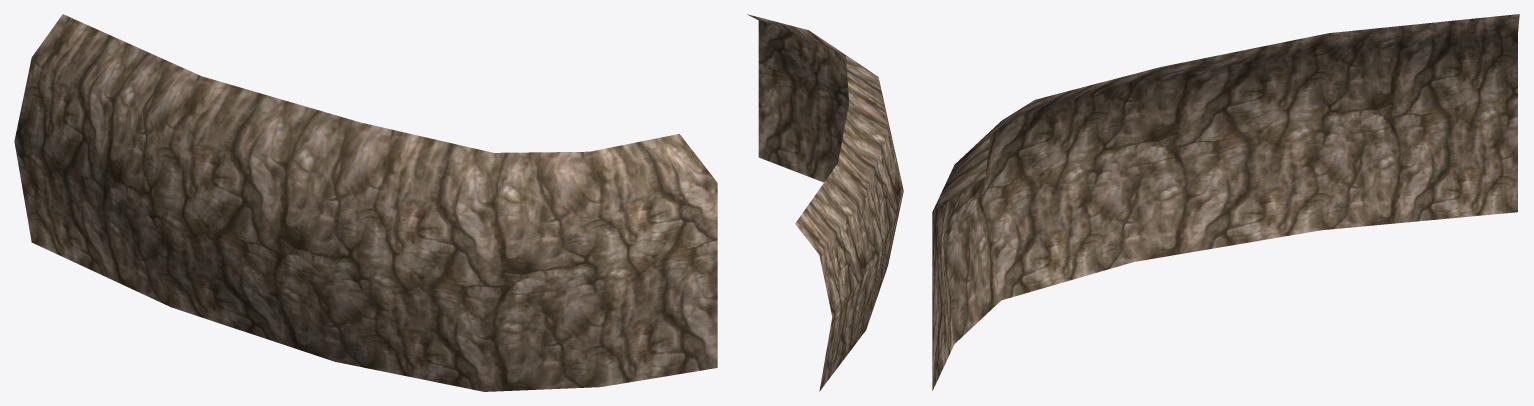
The model's file is OVERHILL_A_01_OBJECT153.fbx.
3 renders of one model, left to right at view 1: azimuth 30°, elevation 25°; view 2: azimuth 150°, elevation 25°; view 3: azimuth 270°, elevation 25°, orthographic. The views are drawn at different scales.
Visible parts, largest first — view 1: OVERHILL_A_01_OBJECT153; view 2: OVERHILL_A_01_OBJECT153; view 3: OVERHILL_A_01_OBJECT153.
Boxes of the visible parts, bbox=[...] form: OVERHILL_A_01_OBJECT153: bbox=[14, 14, 717, 391]; OVERHILL_A_01_OBJECT153: bbox=[747, 14, 903, 391]; OVERHILL_A_01_OBJECT153: bbox=[932, 14, 1519, 390].
Bounding box in the file's own units: 180861 × 94776 × 236519.
Materials: 1 (1 with a texture image).
